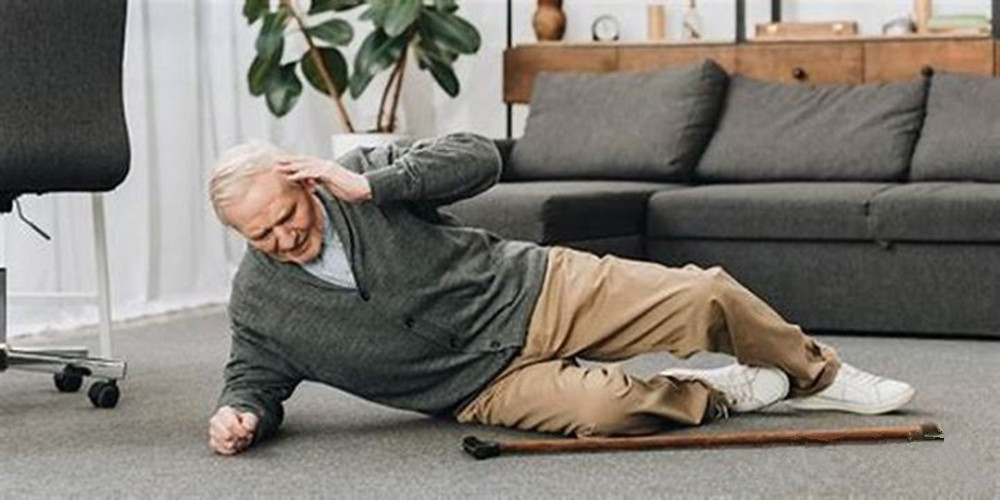falling: (171, 133, 939, 471)
